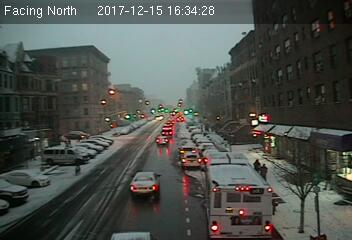bus: (203, 150, 274, 238)
car: (129, 169, 162, 198), (180, 152, 203, 169), (154, 135, 170, 145), (161, 128, 173, 136)
